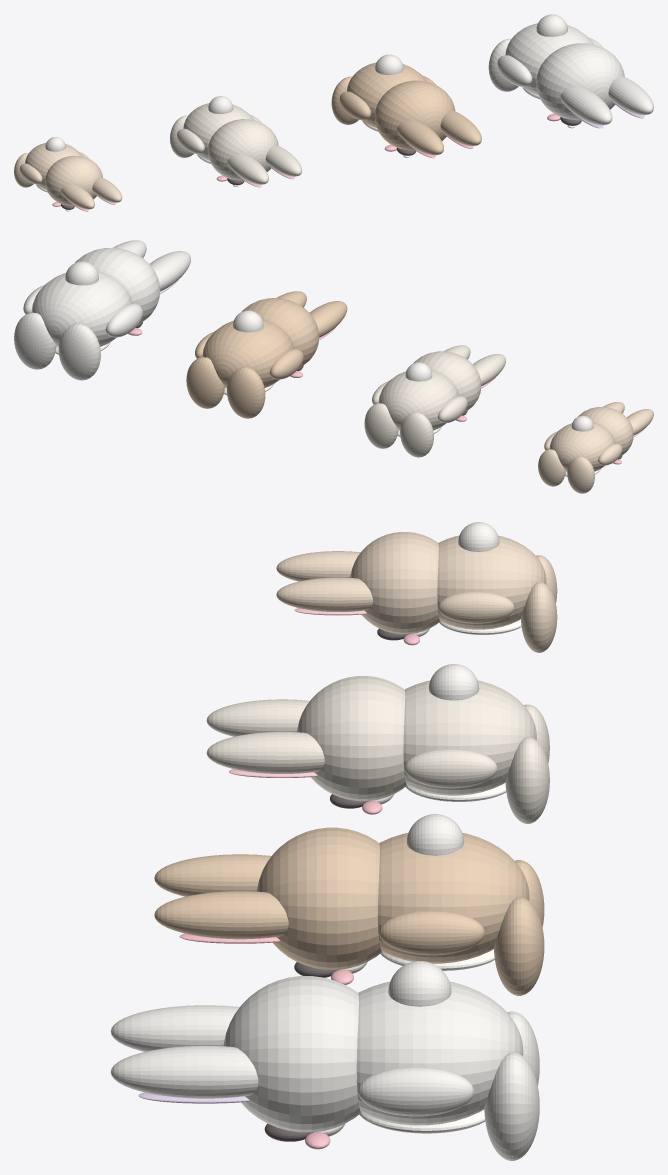
The model's file is conejitos_pixar.glb.
3 views of the same model, one above another, from view 1: azimuth 30°, elevation 25°; view 2: azimuth 150°, elevation 25°; view 3: azimuth 270°, elevation 25° (orthographic). The views are drawn at different scales.
Parts seen in each view (by area): view 1: Evolucion_4_Final_Head, Evolucion_3_Adulto_Head, Evolucion_2_Joven_Head, Evolucion_4_Final_Body, Evolucion_1_Bebe_Head, Evolucion_3_Adulto_Body, Evolucion_2_Joven_Body, Evolucion_4_Final_Ear_L, Evolucion_4_Final_Ear_R, Evolucion_3_Adulto_Ear_L, Evolucion_3_Adulto_Ear_R, Evolucion_1_Bebe_Body (+15 smaller); view 2: Evolucion_4_Final_Body, Evolucion_3_Adulto_Body, Evolucion_2_Joven_Body, Evolucion_4_Final_Head, Evolucion_3_Adulto_Head, Evolucion_4_Final_Foot_L, Evolucion_1_Bebe_Body, Evolucion_4_Final_Foot_R, Evolucion_2_Joven_Head, Evolucion_3_Adulto_Foot_L, Evolucion_3_Adulto_Foot_R, Evolucion_2_Joven_Foot_L (+14 smaller); view 3: Evolucion_4_Final_Head, Evolucion_4_Final_Body, Evolucion_3_Adulto_Head, Evolucion_3_Adulto_Body, Evolucion_2_Joven_Head, Evolucion_2_Joven_Body, Evolucion_1_Bebe_Head, Evolucion_4_Final_Ear_R, Evolucion_1_Bebe_Body, Evolucion_3_Adulto_Ear_R, Evolucion_4_Final_Foot_R, Evolucion_4_Final_Arm_R (+18 smaller).
Part boxes in pixels (<box>): Evolucion_4_Final_Head: <box>536,43,624,120</box>; Evolucion_3_Adulto_Head: <box>374,80,455,150</box>; Evolucion_2_Joven_Head: <box>208,119,278,180</box>; Evolucion_4_Final_Body: <box>505,23,593,95</box>; Evolucion_1_Bebe_Head: <box>45,155,102,206</box>; Evolucion_3_Adulto_Body: <box>347,62,426,127</box>; Evolucion_2_Joven_Body: <box>183,103,253,160</box>; Evolucion_4_Final_Ear_L: <box>560,87,612,125</box>; Evolucion_4_Final_Ear_R: <box>608,75,653,114</box>; Evolucion_3_Adulto_Ear_L: <box>397,120,443,155</box>; Evolucion_3_Adulto_Ear_R: <box>440,110,481,145</box>; Evolucion_1_Bebe_Body: <box>25,143,82,189</box>; Evolucion_4_Final_Body: <box>31,271,131,346</box>; Evolucion_3_Adulto_Body: <box>202,319,293,388</box>; Evolucion_2_Joven_Body: <box>378,370,458,430</box>; Evolucion_4_Final_Head: <box>75,247,160,324</box>; Evolucion_3_Adulto_Head: <box>242,298,319,367</box>; Evolucion_4_Final_Foot_L: <box>58,323,100,380</box>; Evolucion_1_Bebe_Body: <box>549,422,615,471</box>; Evolucion_4_Final_Foot_R: <box>14,312,56,369</box>; Evolucion_2_Joven_Head: <box>413,351,481,412</box>; Evolucion_3_Adulto_Foot_L: <box>226,367,265,418</box>; Evolucion_3_Adulto_Foot_R: <box>186,357,224,408</box>; Evolucion_2_Joven_Foot_L: <box>400,412,433,457</box>; Evolucion_4_Final_Head: <box>223,976,361,1132</box>; Evolucion_4_Final_Body: <box>356,981,523,1125</box>; Evolucion_3_Adulto_Head: <box>257,827,381,969</box>; Evolucion_3_Adulto_Body: <box>378,833,529,963</box>; Evolucion_2_Joven_Head: <box>297,676,406,801</box>; Evolucion_2_Joven_Body: <box>403,680,536,795</box>; Evolucion_1_Bebe_Head: <box>350,532,440,634</box>; Evolucion_4_Final_Ear_R: <box>110,1046,258,1098</box>; Evolucion_1_Bebe_Body: <box>437,535,546,629</box>; Evolucion_3_Adulto_Ear_R: <box>154,891,288,939</box>; Evolucion_4_Final_Foot_R: <box>484,1052,539,1160</box>; Evolucion_4_Final_Arm_R: <box>358,1067,473,1116</box>.
Size of the model in its own units: 11.3 by 1.67 by 3.89.
